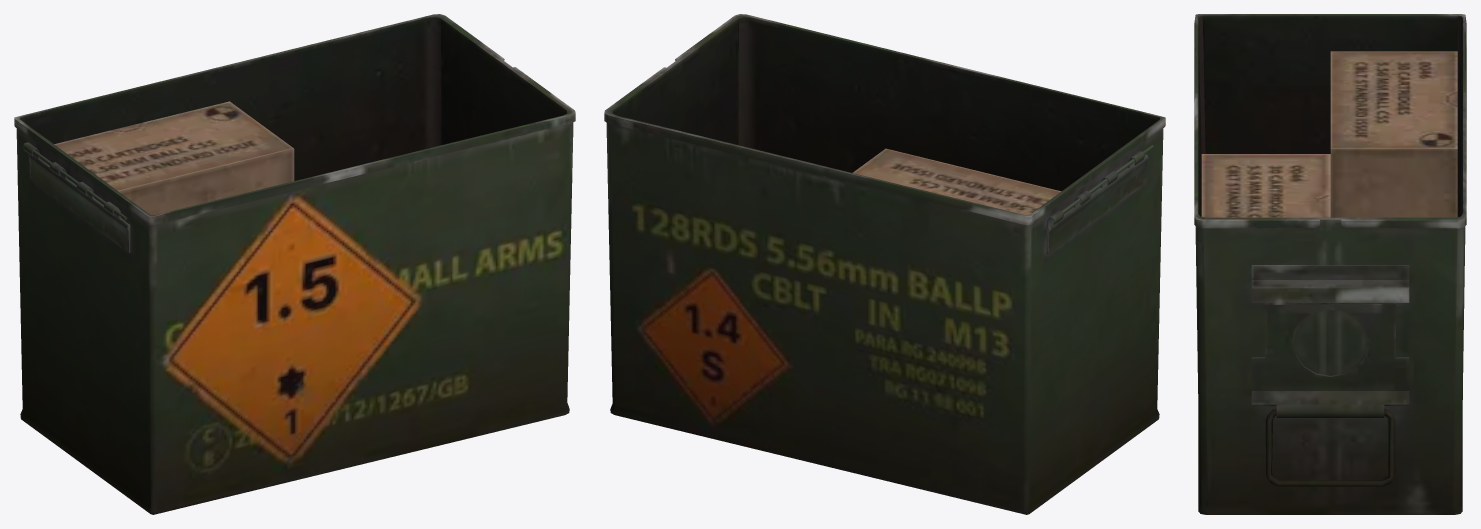
Rendered from rifleammoboxhalfstandard.worldmodel.glb.
The picture shows the model from 3 angles, left to right: view 1: azimuth 30°, elevation 25°; view 2: azimuth 150°, elevation 25°; view 3: azimuth 270°, elevation 25°; orthographic projection.
Parts seen in each view (by area): view 1: RifleAmmoBoxHalf_LOD0; view 2: RifleAmmoBoxHalf_LOD0; view 3: RifleAmmoBoxHalf_LOD0.
Part boxes in pixels (x1,y1,x2,y2): RifleAmmoBoxHalf_LOD0: (14, 14, 575, 514); RifleAmmoBoxHalf_LOD0: (604, 14, 1165, 514); RifleAmmoBoxHalf_LOD0: (1194, 14, 1466, 514).
Size of the model in its own units: 0.3809 by 0.24 by 0.2001.
Materials: 1 (1 with a texture image).
